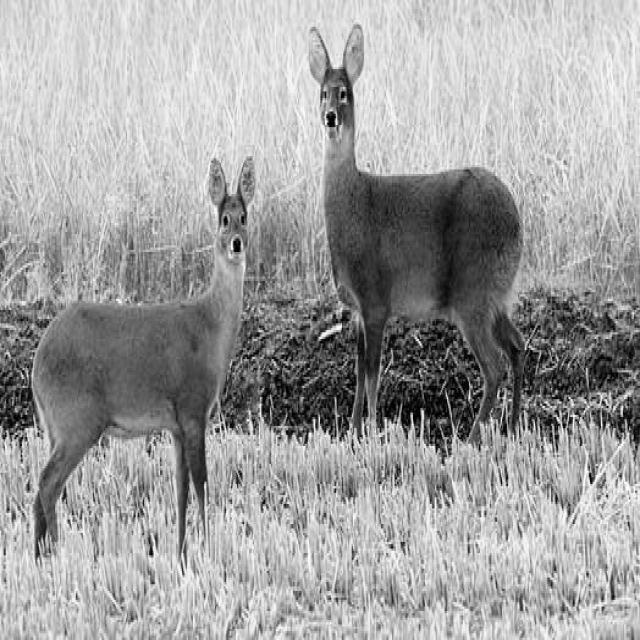Deer: (294, 24, 552, 492), (22, 151, 266, 585)
